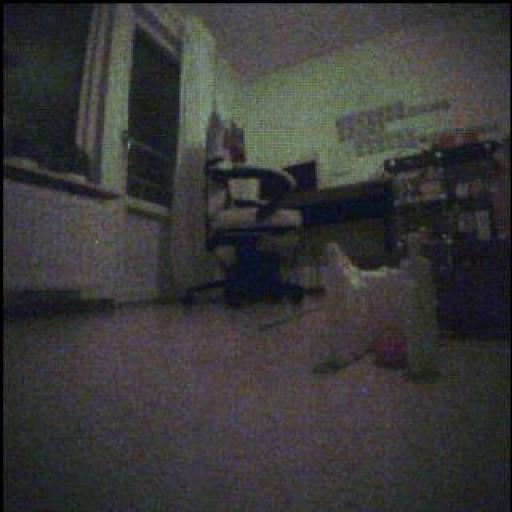basket: (376, 331, 408, 369)
